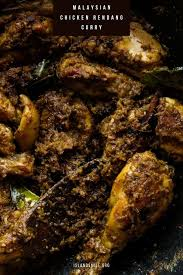rendang: (3, 36, 182, 256)
